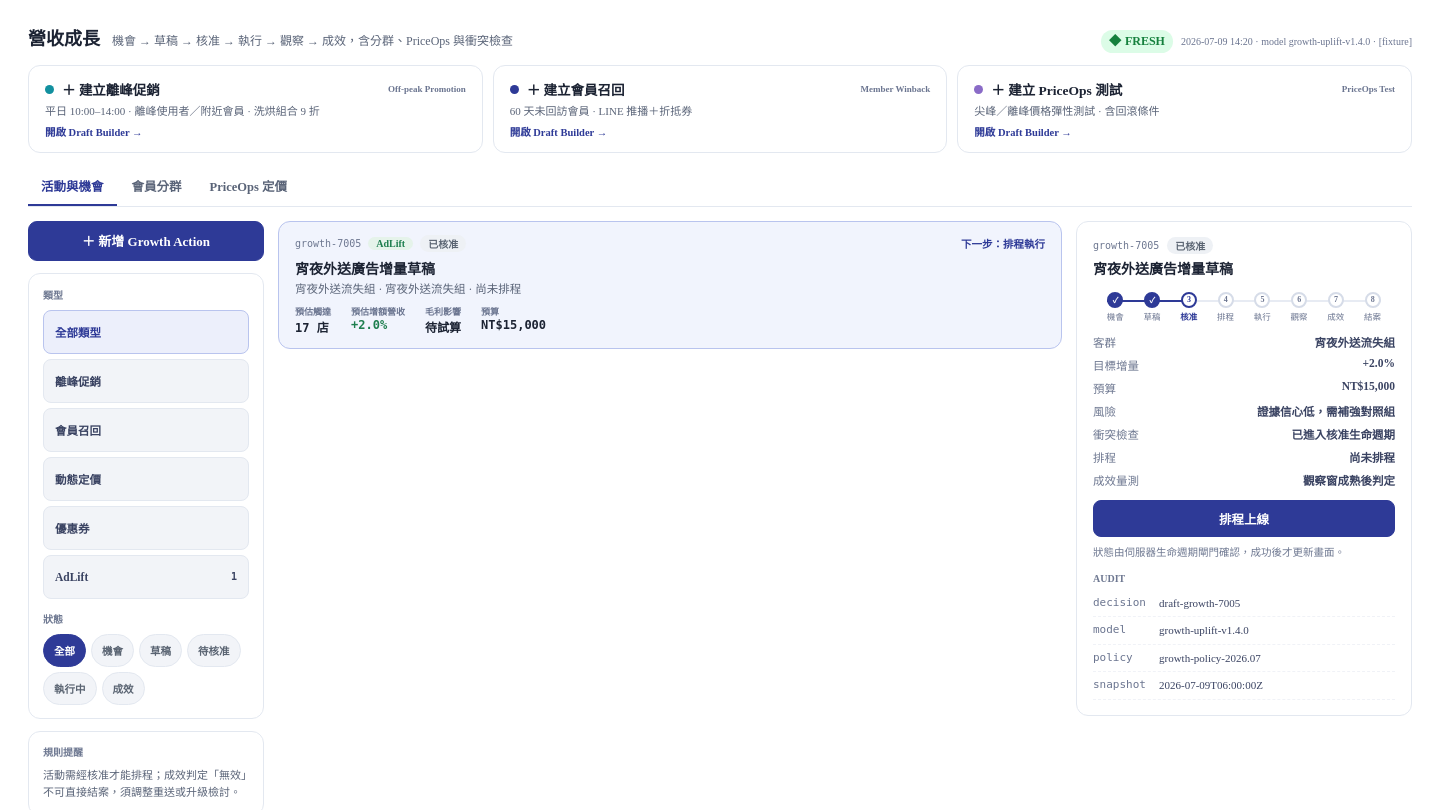
Test case: GrowthWorkspace API loading › advances lifecycle only after the transition API succeeds
Click the button with test id "growth-transition-action": (1244, 518) [1093,500,1395,537]
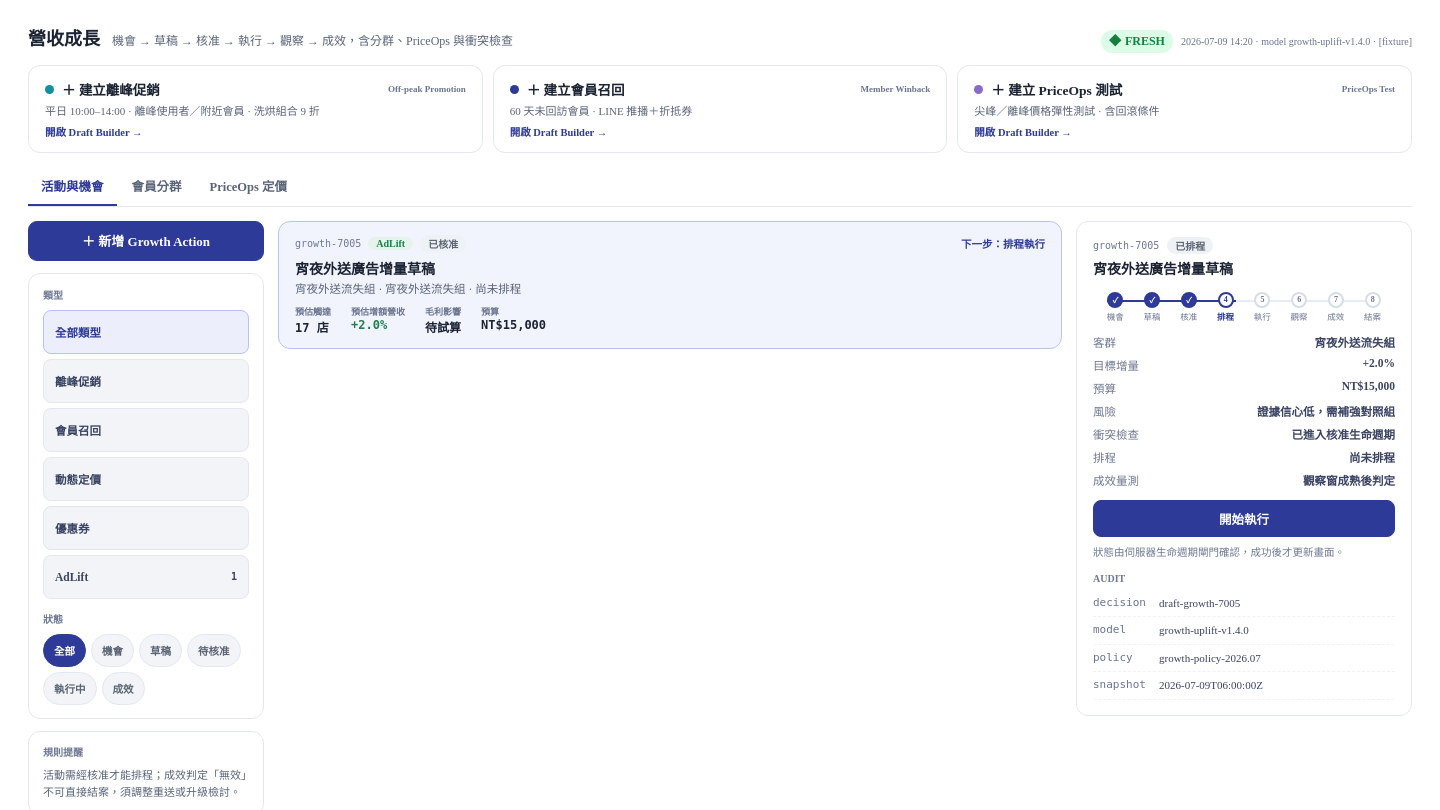
Check: the element with test id "growth-item-detail" shows "已排程", box [1175,240,1205,252]
